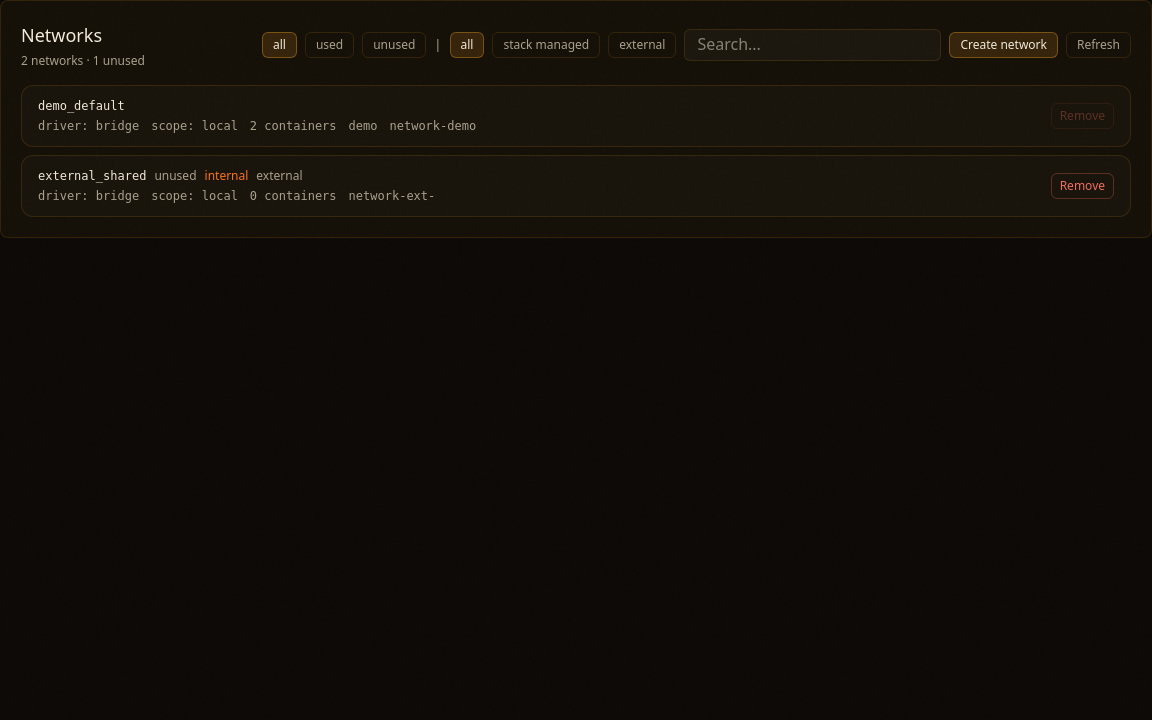
Scenario: MaintenanceNetworks › keeps a create failure visible in the dialog
The width and height of the screenshot is (1152, 720).
Click the button "Create network": (1004, 45) [949,32,1058,58]
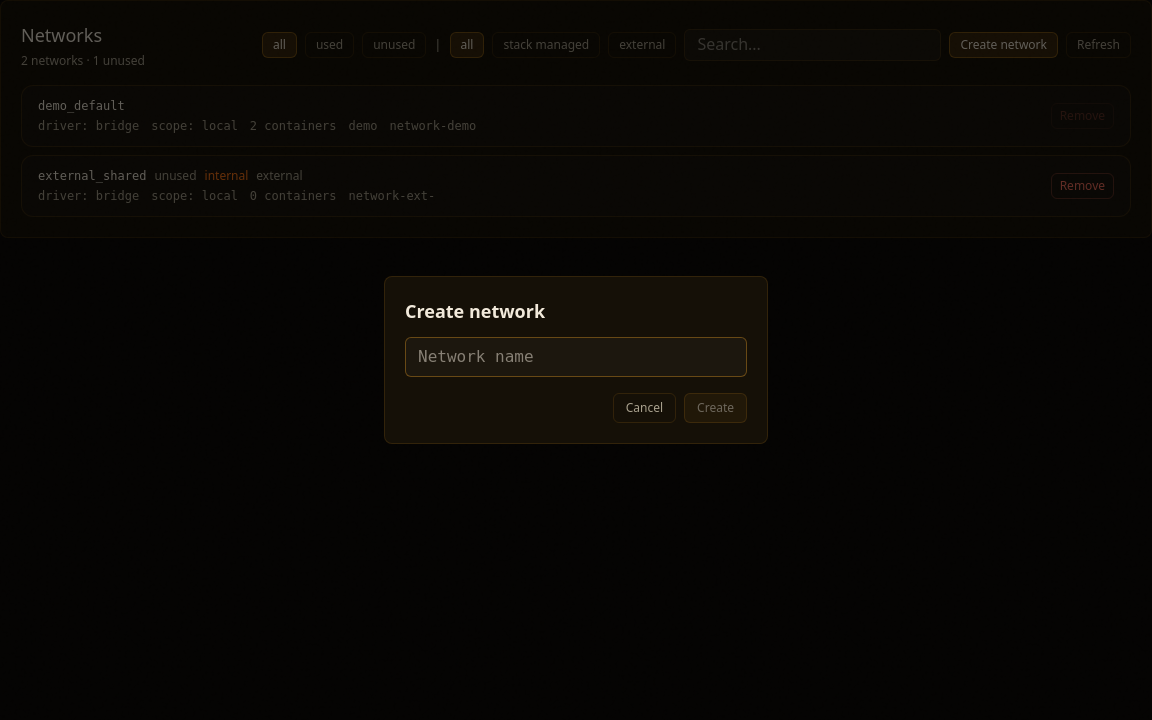
In the field with placeholder "Network name": (576, 357) [405,337,747,377], type "new_network"
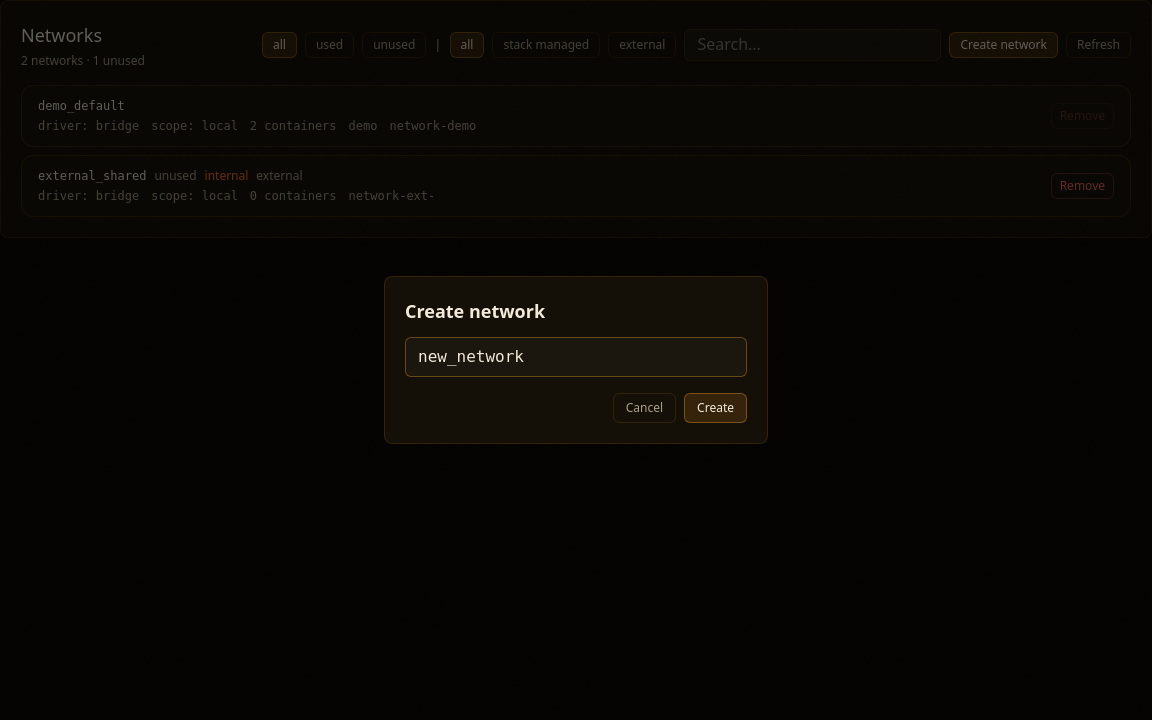
Submit the form with placeholder "Network name", box [405,325,747,423]
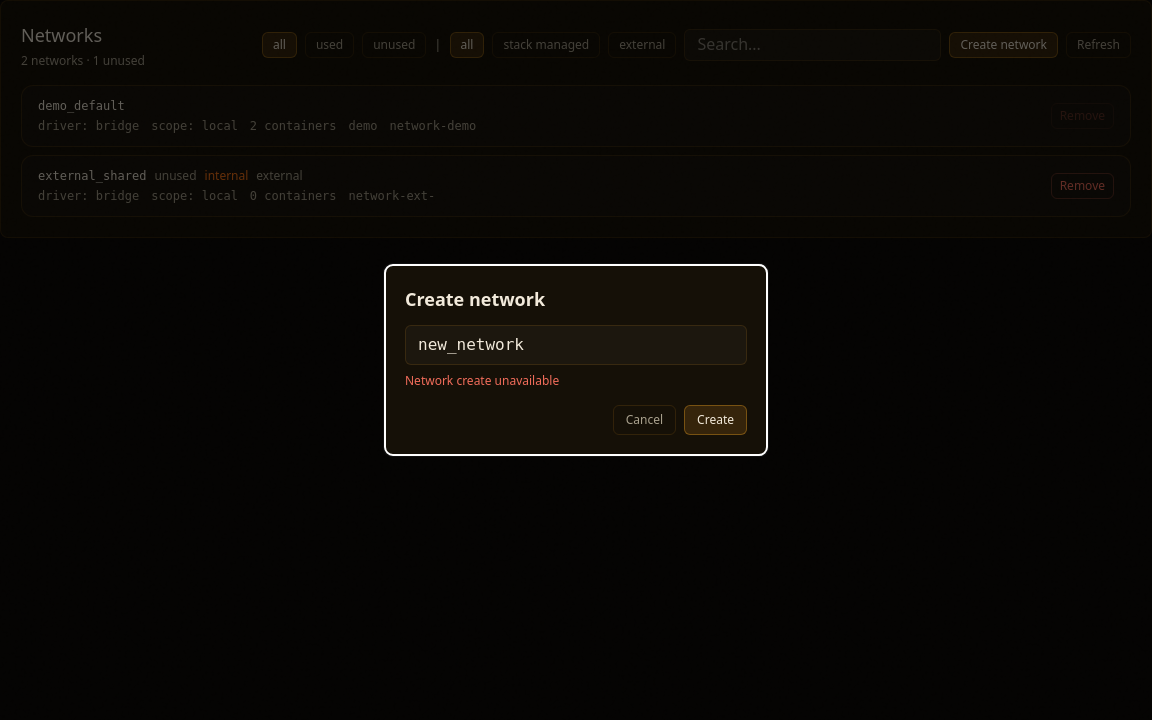
Check: the dialog "Create network" is shown, box [384,264,768,456]
Check: the message reads "Network create unavailable", box [405,372,559,389]
